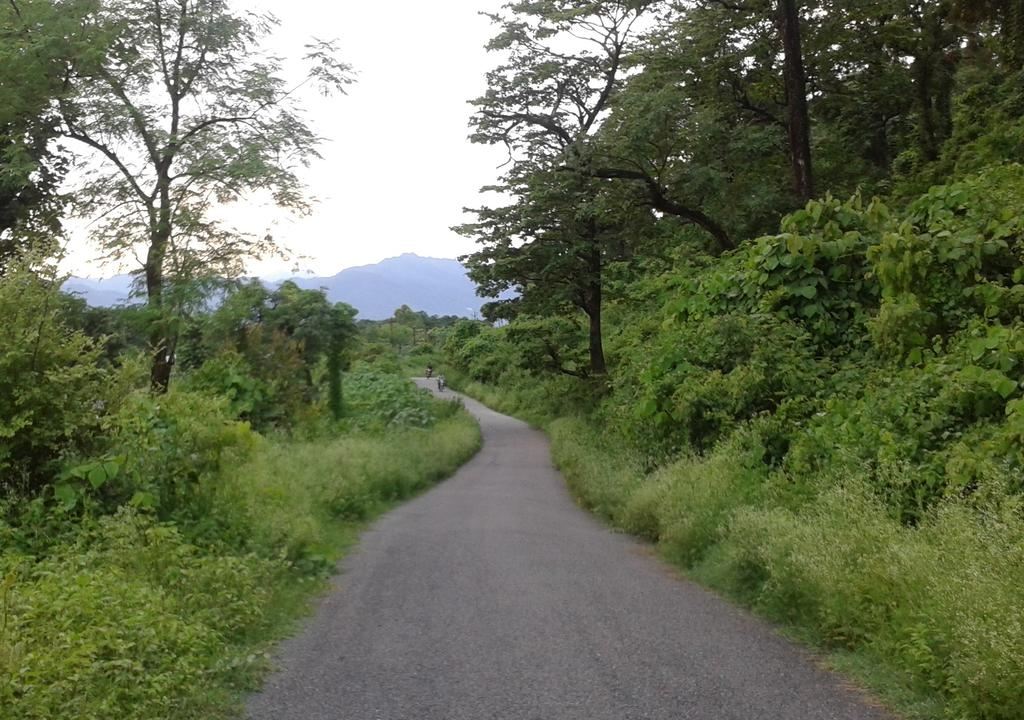Road: (219, 376, 923, 720)
